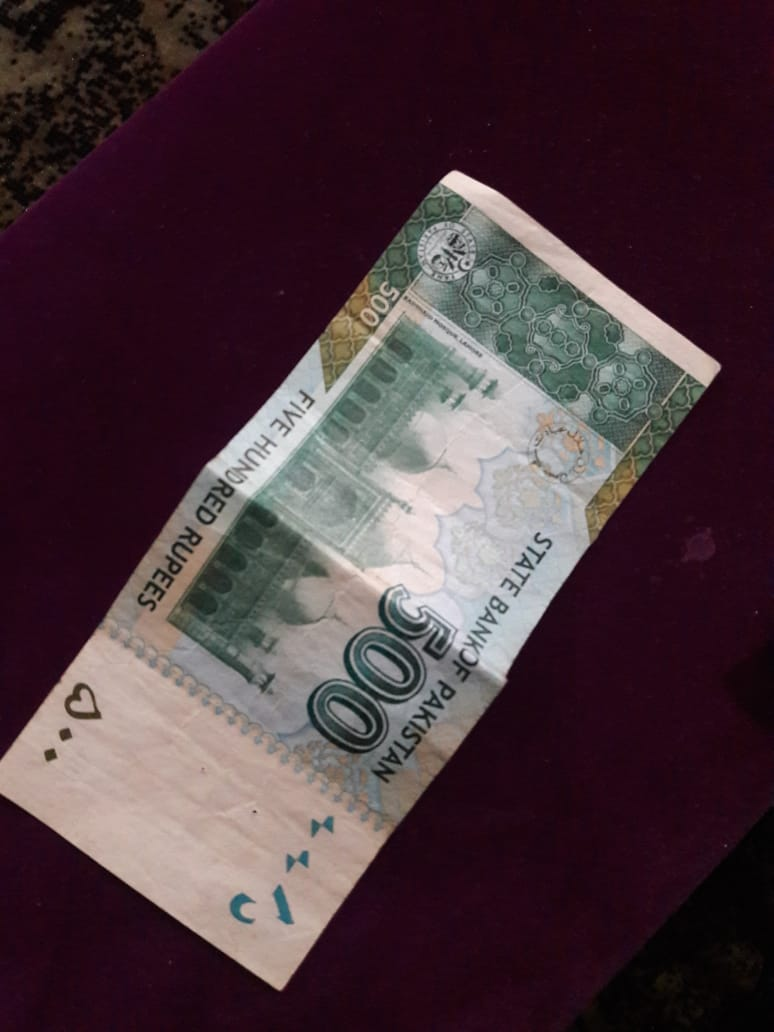500 rupee: (14, 160, 730, 1003)
